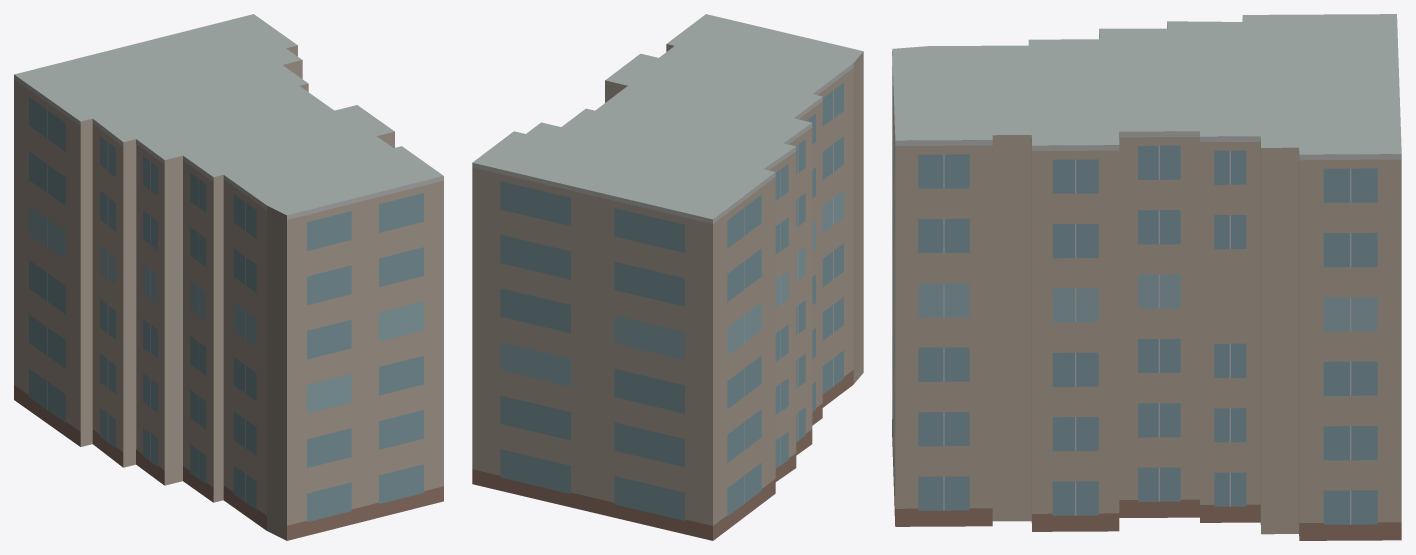
Rendered from survey-upis-32999181.glb.
The picture shows the model from 3 angles, left to right: view 1: azimuth 30°, elevation 25°; view 2: azimuth 150°, elevation 25°; view 3: azimuth 270°, elevation 25°; orthographic projection. The views are drawn at different scales.
Visible parts, largest first — view 1: survey-upis-32999181.tmp; view 2: survey-upis-32999181.tmp; view 3: survey-upis-32999181.tmp.
Part boxes in pixels (x1,y1,x2,y2): survey-upis-32999181.tmp: [14, 14, 443, 540]; survey-upis-32999181.tmp: [472, 14, 863, 540]; survey-upis-32999181.tmp: [892, 14, 1401, 540].
Size of the model in its own units: 13.2 by 16.9 by 20.21.
